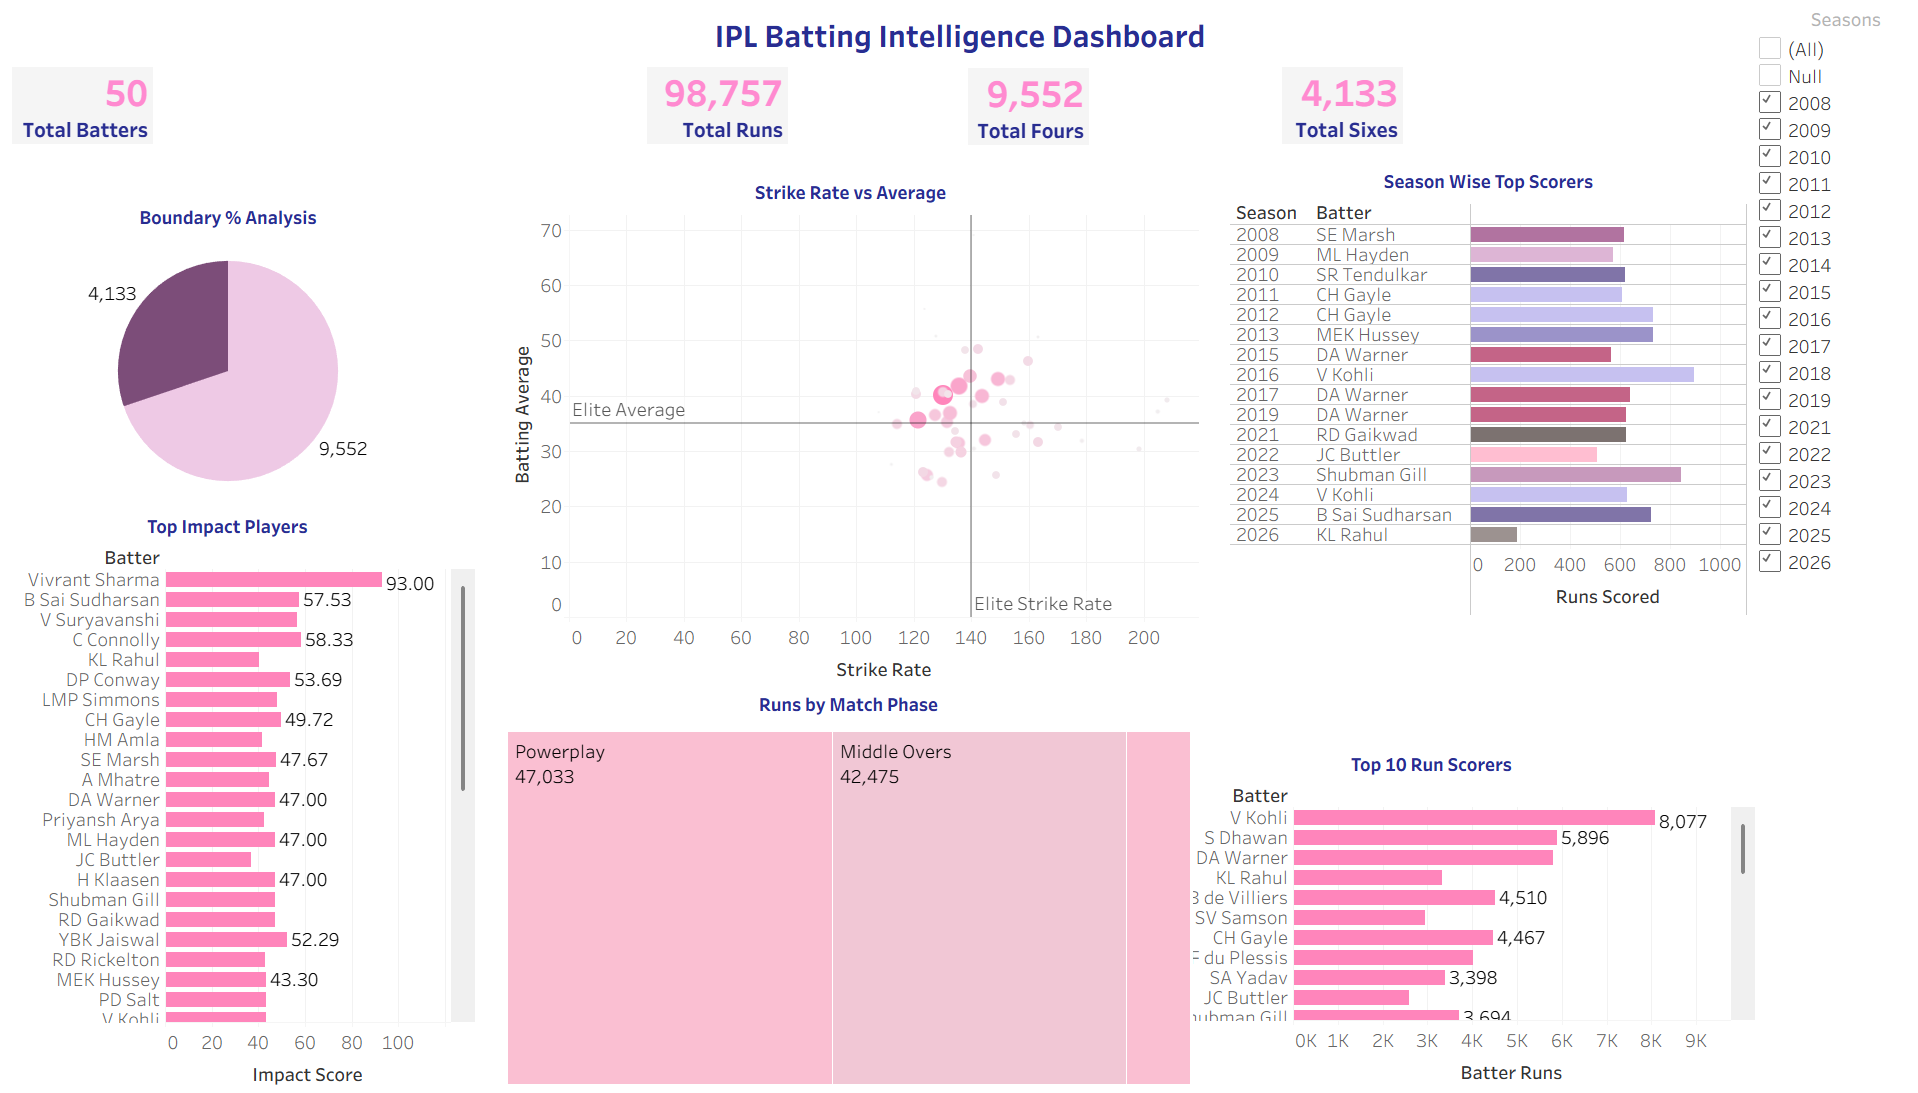

The dashboard page shown, as its layout file describes it:
{"tool":"tableau","page":{"name":"Batting Intelligence Dashboard","canvas":[1000,1000],"units":"permille","ordinal":0},"visuals":[{"type":"text","box":[5.3,9.2,989.3,51.9]},{"type":"worksheet","title":"Total Batters","mark":"Automatic","box":[5.3,61.2,330,929.6]},{"type":"worksheet","title":"Total Runs","mark":"Automatic","box":[335.3,61.2,330,929.6]},{"type":"worksheet","title":"Total Sixes","mark":"Automatic","box":[665.3,61.2,329.3,929.6]},{"type":"worksheet","title":"Total Fours","mark":"Automatic","box":[504.4,63.5,247.5,332.6]},{"type":"worksheet","title":"Season Wise Top Scorers","mark":"Automatic","rows":["season","batter"],"cols":["batter_runs"],"box":[640.8,151.3,269.4,535.8]},{"type":"worksheet","title":"Strike Rate vs Average","mark":"Circle","rows":["Calculation_461056022483693575"],"cols":["Calculation_461056022479278084"],"box":[261.4,161.7,362.9,468.8]},{"type":"worksheet","title":"Boundary % Analysis","mark":"Pie","box":[2.5,184.8,232.5,276]},{"type":"worksheet","title":"Top Impact Players","mark":"Automatic","rows":["batter"],"cols":["Calculation_461056022482264069"],"box":[2.5,466.5,245,533.5]},{"type":"worksheet","title":"Runs by Match Phase 2","mark":"Automatic","box":[261.9,629.3,359.7,367.2]},{"type":"worksheet","title":"Top 10 Run Scorers","mark":"Automatic","rows":["batter"],"cols":["batter_runs"],"box":[590.3,683.6,324.1,314.1]}]}

Visuals, with their boxes on the dashboard's canvas, which has no fixed pixel size, in thousandths of its width and height (x1, y1, x2, y2). These are canvas units, not pixel positions in the 1918x1093 screenshot, which may show the page scaled, cropped or inside an application window:
text: [left=5, top=9, right=995, bottom=61]
"Total Batters" worksheet: [left=5, top=61, right=335, bottom=991]
"Total Runs" worksheet: [left=335, top=61, right=665, bottom=991]
"Total Sixes" worksheet: [left=665, top=61, right=995, bottom=991]
"Total Fours" worksheet: [left=504, top=64, right=752, bottom=396]
"Season Wise Top Scorers" worksheet: [left=641, top=151, right=910, bottom=687]
"Strike Rate vs Average" worksheet (Circle marks): [left=261, top=162, right=624, bottom=630]
"Boundary % Analysis" worksheet (Pie marks): [left=2, top=185, right=235, bottom=461]
"Top Impact Players" worksheet: [left=2, top=466, right=248, bottom=1000]
"Runs by Match Phase 2" worksheet: [left=262, top=629, right=622, bottom=996]
"Top 10 Run Scorers" worksheet: [left=590, top=684, right=914, bottom=998]
